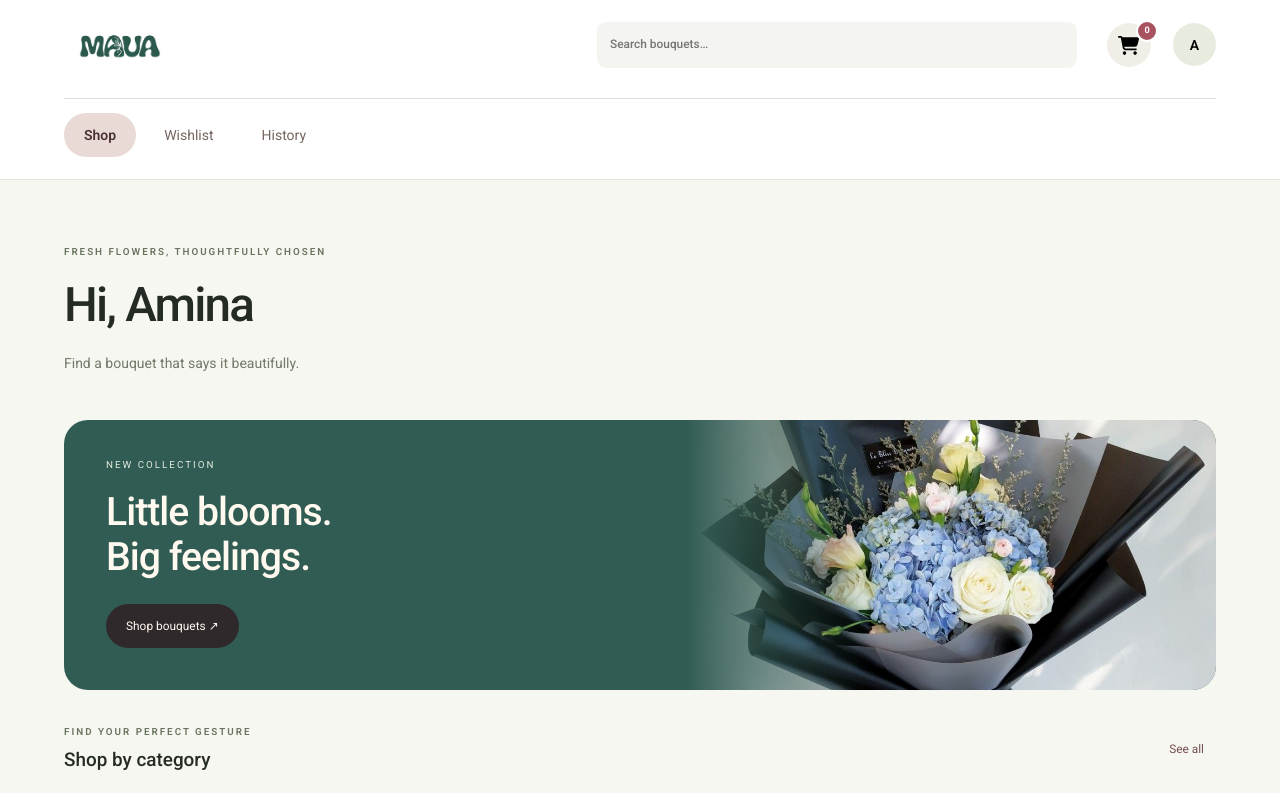
Test: wishlist and history are private to each local account
Step 1. Click the button "Wishlist" → (189, 135), box [144,113,234,157]
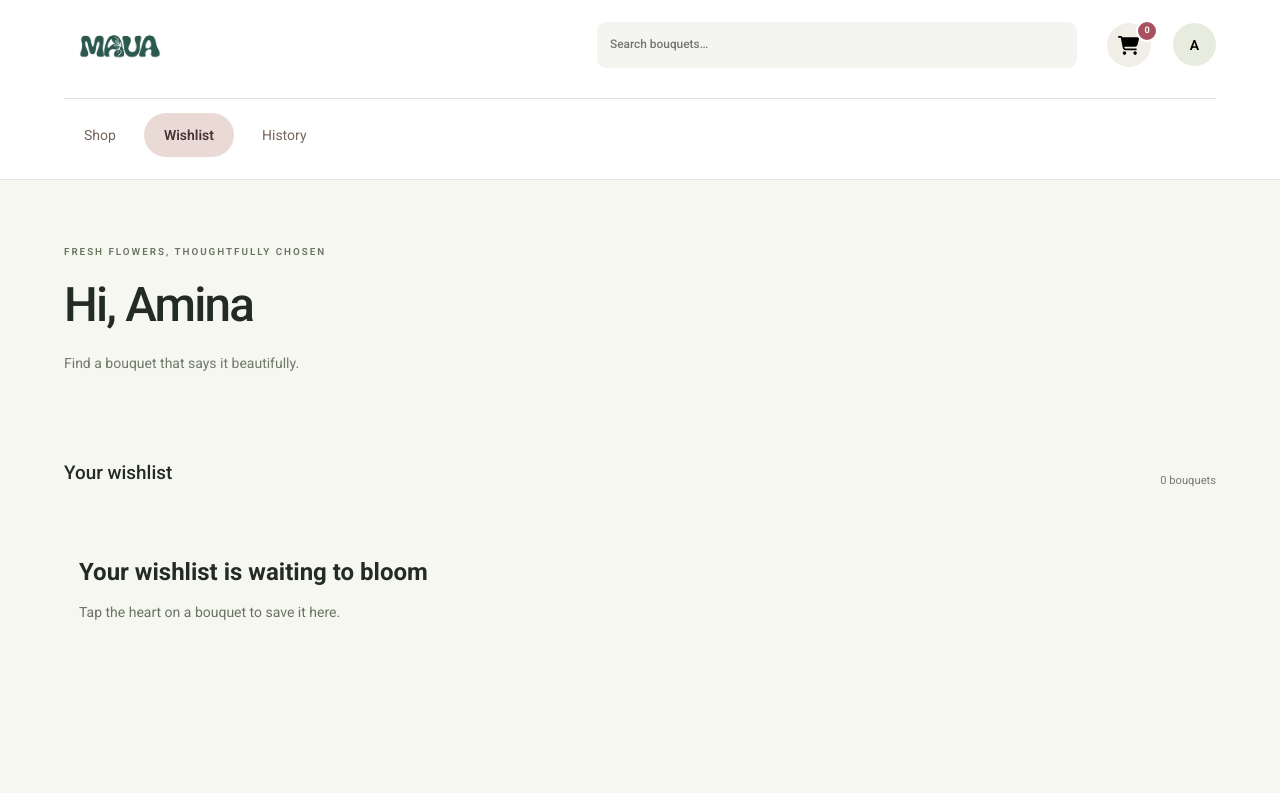
expect the heading "Your wishlist is waiting to bloom" is shown: met, box [79,558,428,586]
Step 2. Click the button "History" → (284, 135), box [242,113,326,157]
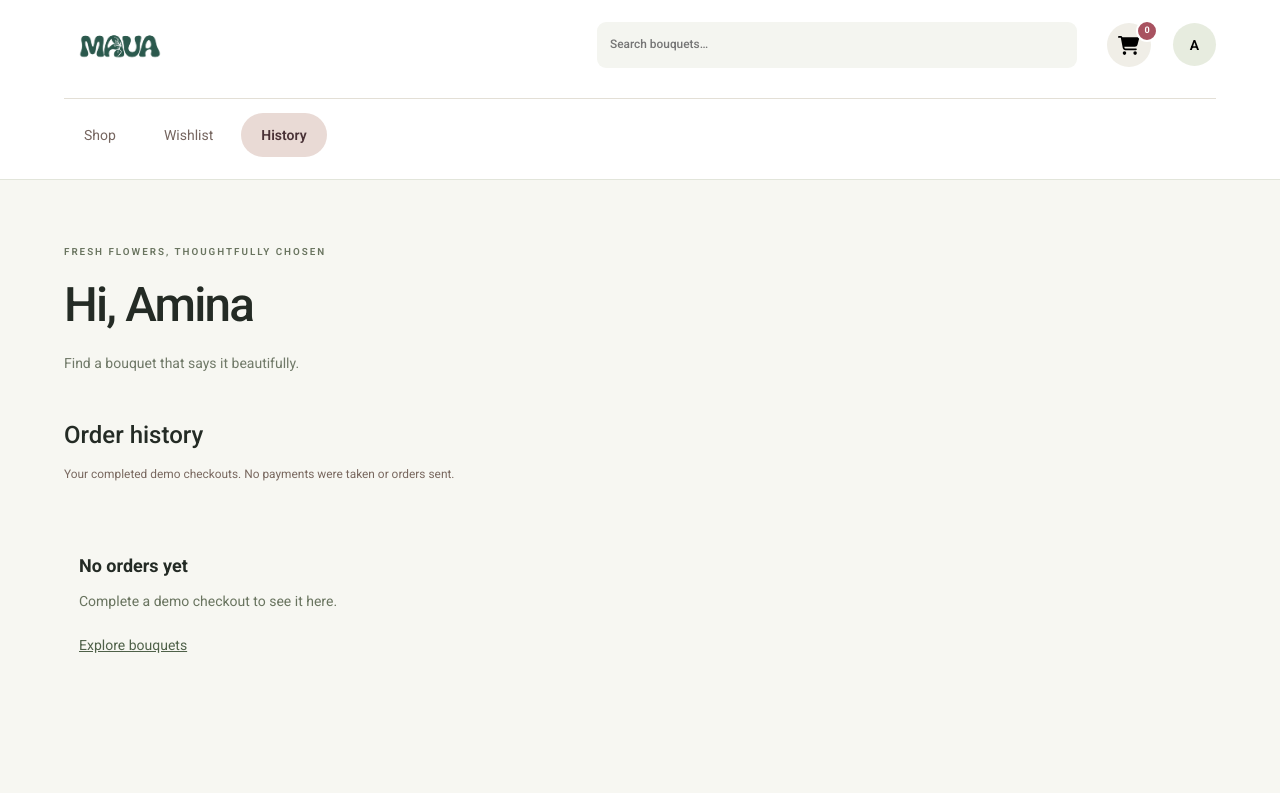
expect the heading "No orders yet" is shown: met, box [79,555,188,576]
